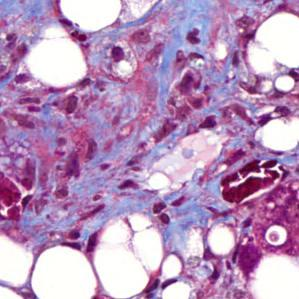steatosis: (26, 38, 87, 88), (205, 225, 238, 257)
